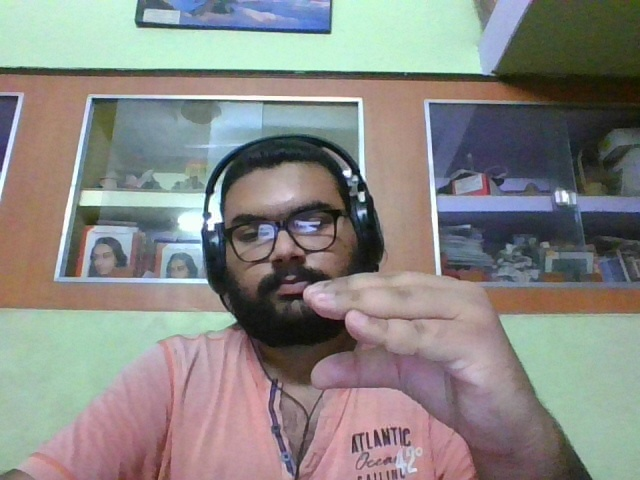no: (302, 273, 551, 439)
